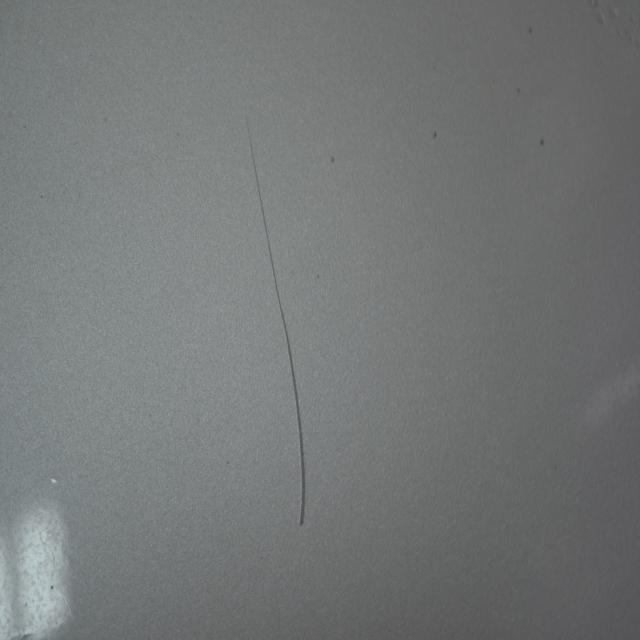dirt: (525, 20, 538, 37), (429, 125, 439, 142), (534, 137, 547, 149), (328, 154, 338, 168)
scratch: (240, 98, 309, 533)
